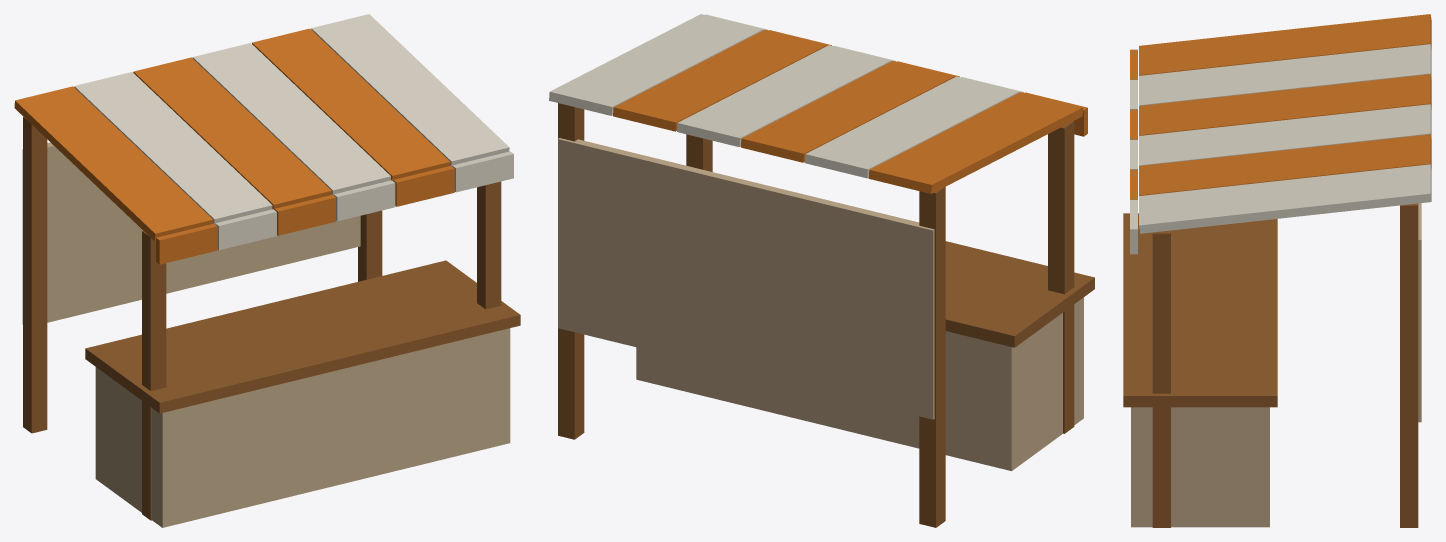
The model's file is stall.glb.
3 renders of one model, left to right at view 1: azimuth 30°, elevation 25°; view 2: azimuth 150°, elevation 25°; view 3: azimuth 270°, elevation 25°, orthographic. The views are drawn at different scales.
Visible parts, largest first — view 1: stall_mesh; view 2: stall_mesh; view 3: stall_mesh.
Boxes of the visible parts, x1,y1,x2,y2 form: stall_mesh: [14, 14, 520, 527]; stall_mesh: [549, 14, 1094, 527]; stall_mesh: [1123, 14, 1431, 527].
Size of the model in its own units: 2.8 by 2.39 by 2.
